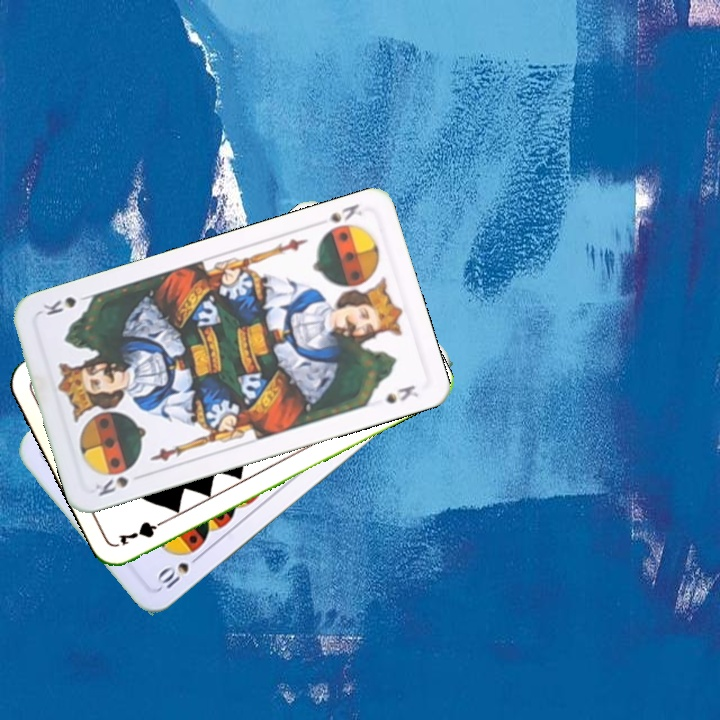G7: (114, 513, 172, 548)
S10: (152, 550, 205, 592)
SK: (91, 472, 131, 499), (326, 199, 365, 226)
